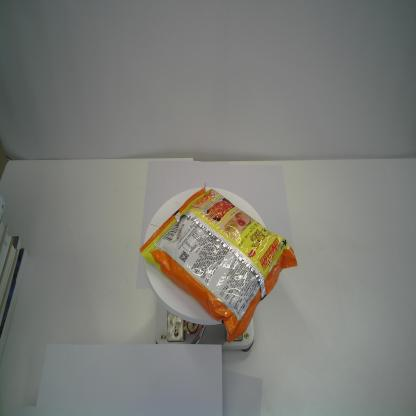Instant Noodles: (138, 182, 298, 344)
